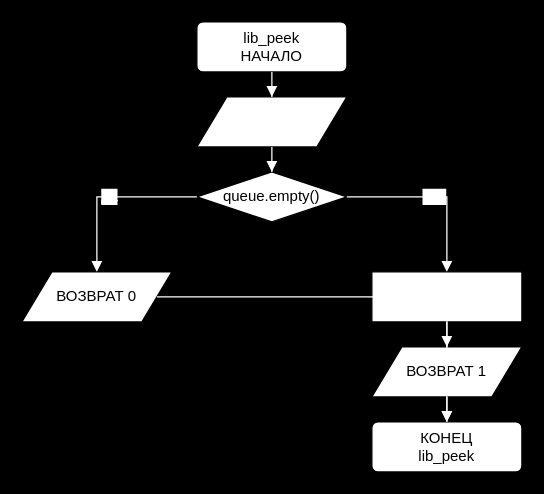
This 544x494 diagram has some shape labels left out. Each missing label, with the box of its shape:
*value = queue.front(): (371, 271, 522, 322)
Указатель value: (196, 96, 347, 147)
